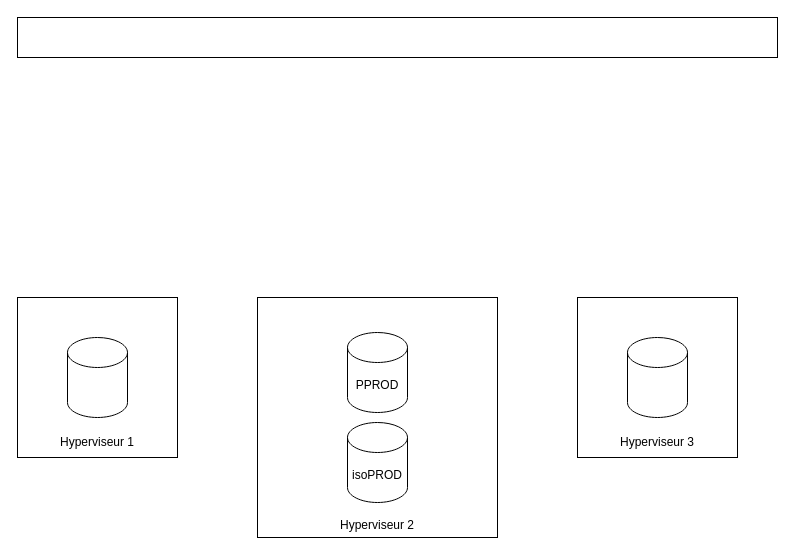
Image size: 795x555. Some labels were removed from this diagram. Each missing label, with the centre of its shape:
"PROD" goes at point 97,377.
"SSO" goes at point 397,37.
"TEST" goes at point 657,377.
